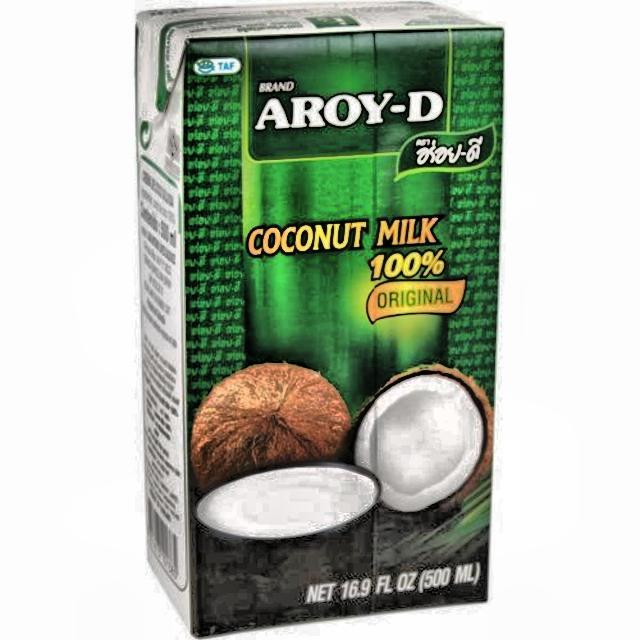cardboard: (134, 0, 504, 638)
